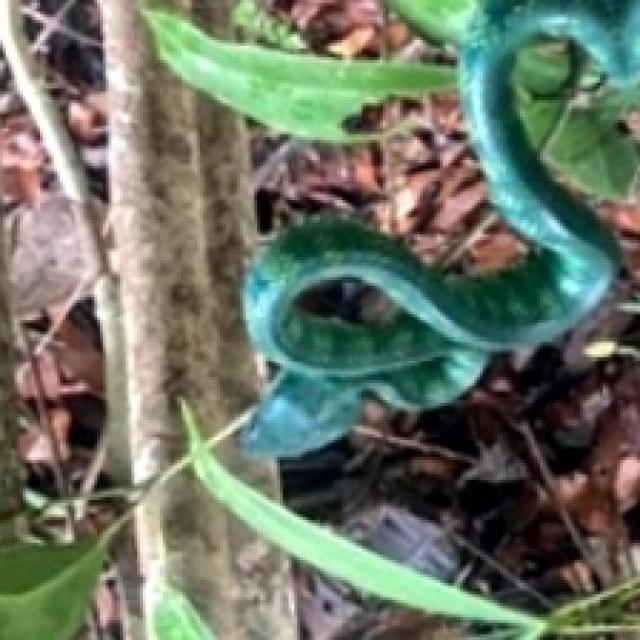north ph temple pitviper: (143, 0, 637, 454), (243, 0, 637, 454)
